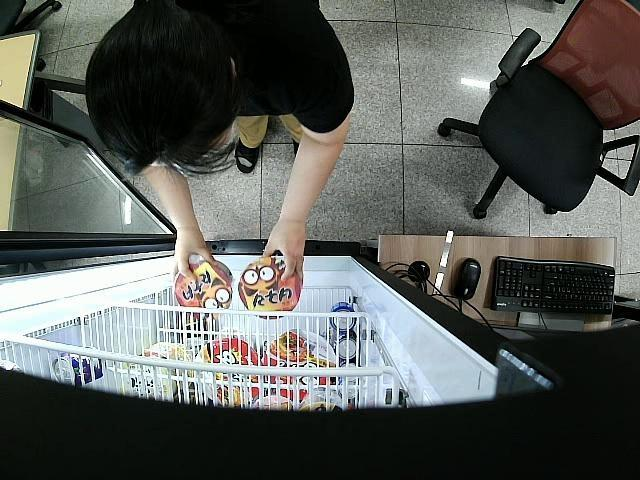05_nuguri_L: (238, 256, 299, 317), (171, 258, 233, 313)
